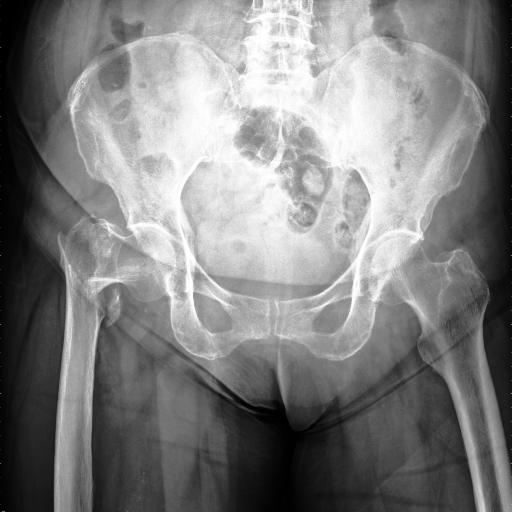intertrochanteric: (68, 215, 176, 302), (58, 230, 106, 353)
lesser-trochanter: (107, 285, 123, 327)
normal: (369, 237, 503, 436)
